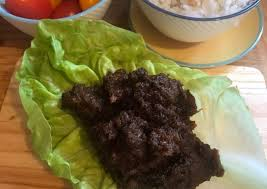rendang: (41, 51, 228, 189)
